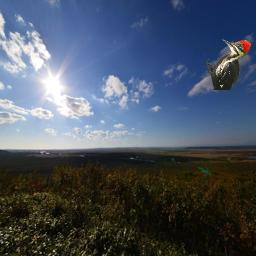Woodpecker: (204, 39, 251, 90)
